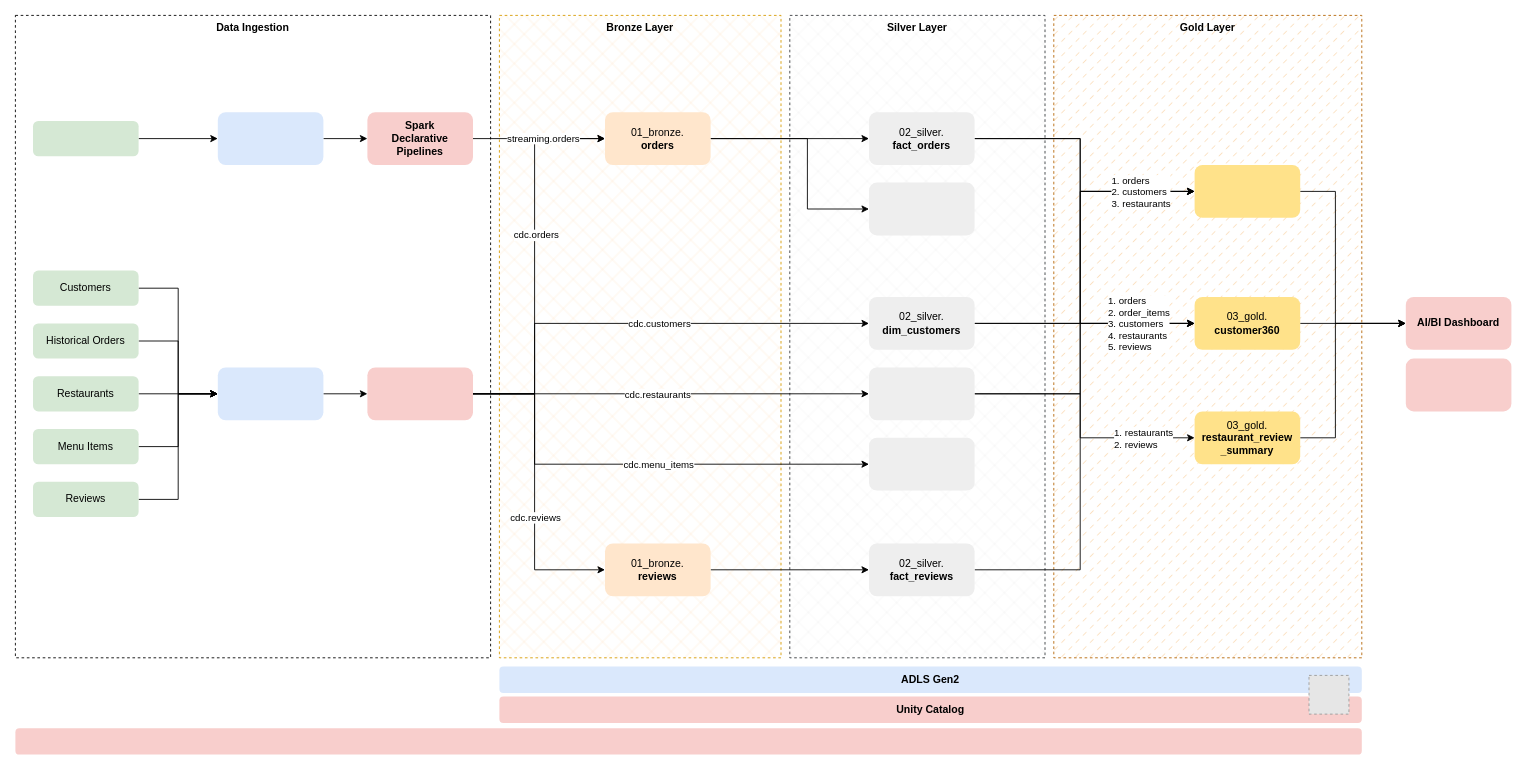
The diagram is 1527 pixels wide and 770 high, and some of its shapes have lost their labels. Grey dashed boxes stand in for pictures. The shapes that lost their labels are listed below. From the top down, each one's centre as x and y in pixels, then its label:
At pixel 85 138: "Streaming Orders".
At pixel 270 138: "Azure Eventhub".
At pixel 921 208: "02_silver. fact_order_items".
At pixel 1247 191: "03_gold. daily_sales _summary".
At pixel 270 393: "Azure SQL Database".
At pixel 420 393: "Lakeflow Connect".
At pixel 921 393: "02_silver. dim_restaurants".
At pixel 1458 384: "AI/BI Genie".
At pixel 921 463: "02_silver. dim_menu_items".
At pixel 688 741: "Lakeflow Jobs".
